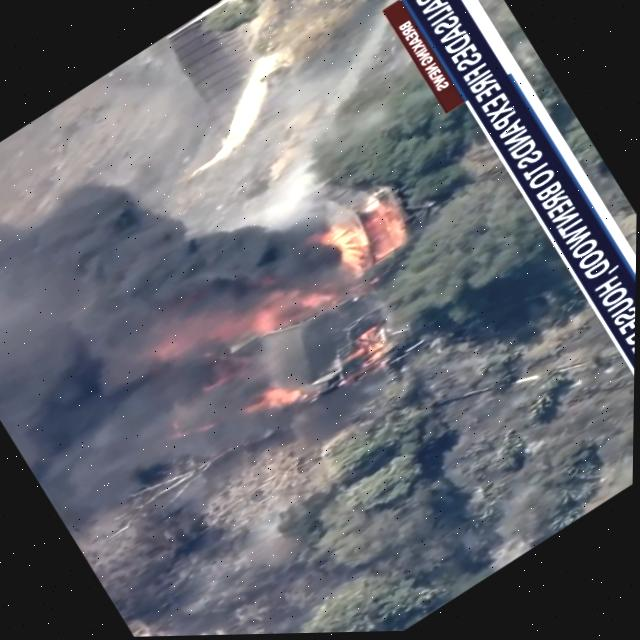Smoke: (0, 78, 390, 540)
